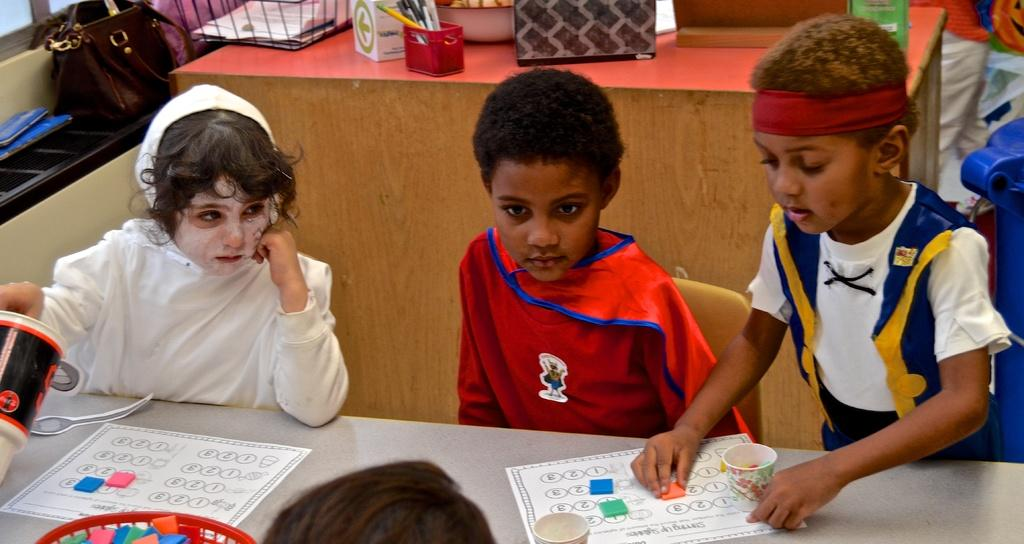Sem Máscara: (488, 152, 598, 281), (753, 130, 877, 233), (170, 172, 275, 276)
